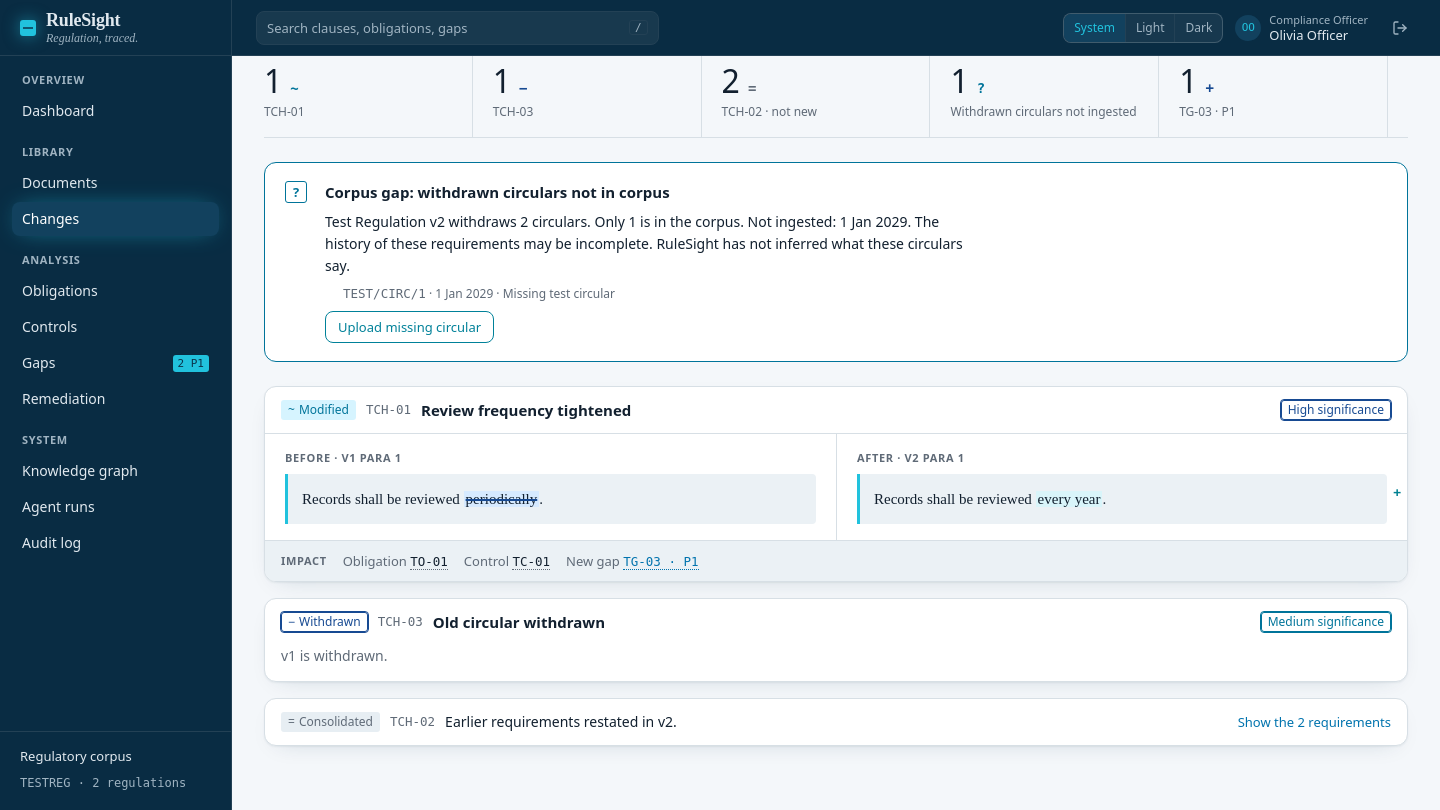
it: Changes › never labels consolidated requirements as new
The width and height of the screenshot is (1440, 810).
(page scrolled)
Click the button named "Show the 2 requirements": (330, 722) [265,699,1407,745]
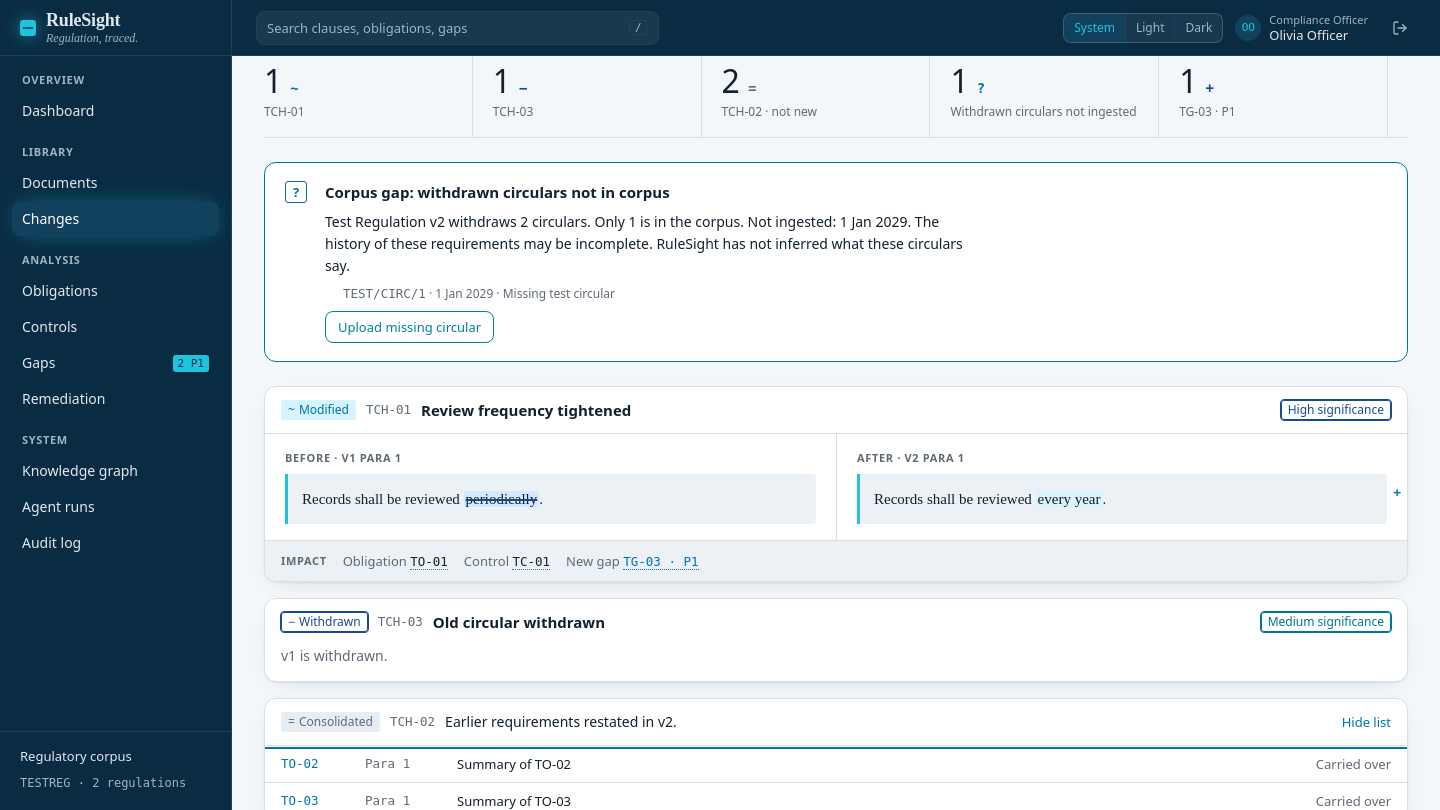
Expected: the text "Consolidated" is shown, [299,713,373,730]
Expected: the text "Carried over" is shown 2 times, [1316,754,1391,774]; [1316,791,1391,809]
